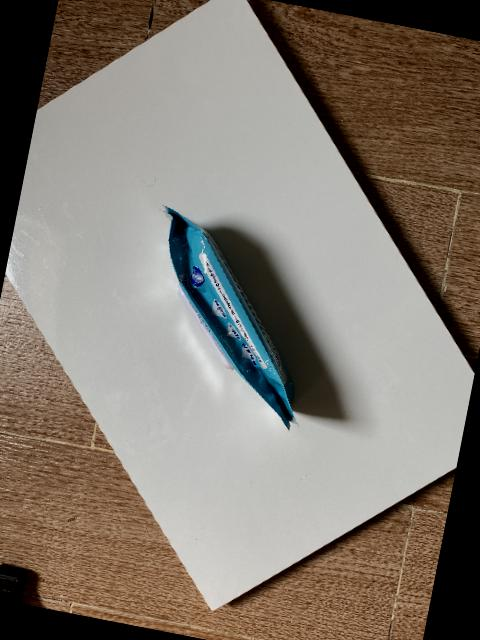Let-green_alcohol_wipes: (165, 209, 294, 430)
